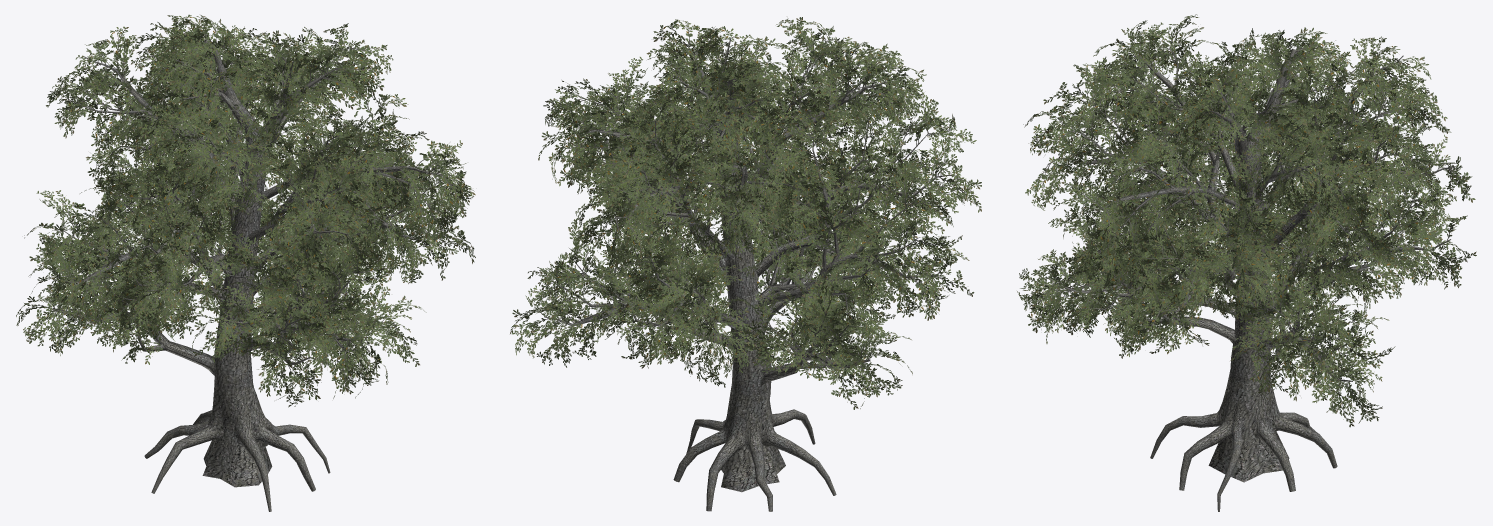
Rendered from quercia.glb.
3 renders of one model, left to right at view 1: azimuth 30°, elevation 25°; view 2: azimuth 150°, elevation 25°; view 3: azimuth 270°, elevation 25°, orthographic.
Parts seen in each view (by area): view 1: Oak01_LOD0; view 2: Oak01_LOD0; view 3: Oak01_LOD0.
Part boxes in pixels (x1=…): Oak01_LOD0: x1=16, y1=14, x2=475, y2=511; Oak01_LOD0: x1=510, y1=17, x2=981, y2=511; Oak01_LOD0: x1=1017, y1=14, x2=1476, y2=511.
Bounding box in the file's own units: 22.98 × 24.2 × 23.31.
Materials: 2 (2 with a texture image).
